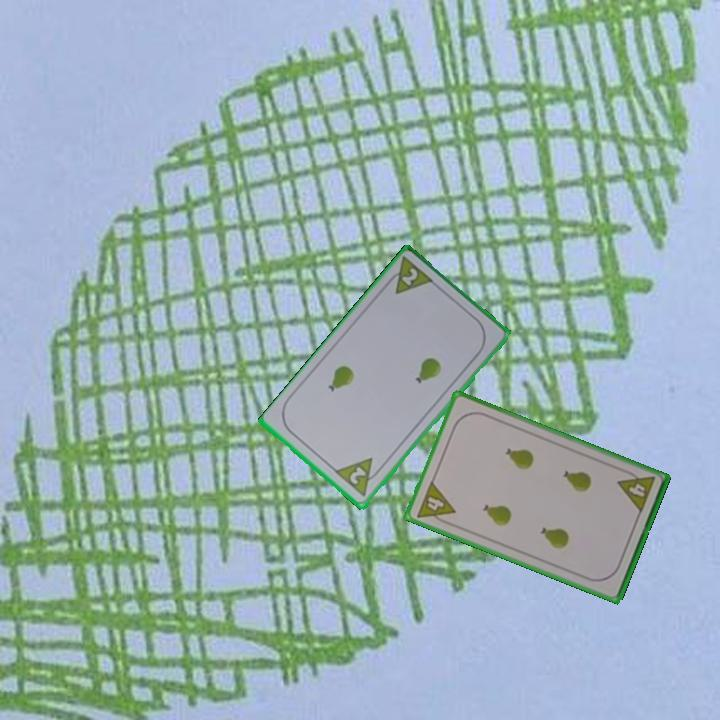2p: (381, 254, 437, 298), (346, 463, 369, 488)
4p: (413, 477, 458, 528), (614, 466, 658, 516)
